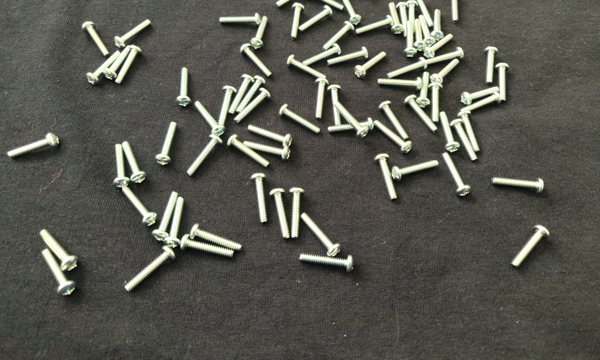longscrew: (123, 246, 177, 293), (300, 212, 342, 257), (40, 248, 78, 297), (38, 229, 79, 274), (511, 224, 552, 269), (186, 134, 224, 177), (189, 223, 243, 252), (121, 186, 158, 228), (7, 133, 60, 160), (151, 191, 179, 242), (234, 87, 272, 124), (180, 234, 234, 260), (373, 120, 413, 155), (403, 94, 438, 134), (442, 152, 472, 198), (227, 135, 270, 167), (334, 101, 370, 139), (277, 104, 321, 135), (377, 100, 410, 141), (85, 50, 122, 86), (449, 118, 479, 161), (194, 100, 227, 138), (235, 75, 267, 114), (163, 196, 186, 249), (300, 252, 355, 274), (228, 74, 256, 116), (373, 154, 398, 201), (269, 187, 291, 240), (114, 45, 143, 85), (240, 43, 273, 78), (121, 140, 147, 184), (114, 19, 152, 49), (391, 160, 440, 183), (286, 54, 327, 81), (456, 111, 482, 153), (102, 45, 132, 81), (248, 124, 293, 148), (250, 173, 271, 224), (155, 121, 178, 167), (244, 140, 292, 162), (81, 21, 110, 57), (322, 21, 355, 52), (299, 4, 334, 33), (302, 43, 342, 68), (460, 91, 503, 114), (289, 187, 307, 241), (491, 177, 545, 195), (353, 51, 387, 79), (387, 57, 428, 80), (439, 111, 461, 153), (327, 46, 370, 67), (328, 117, 375, 136), (355, 15, 395, 36), (113, 144, 132, 188), (218, 85, 237, 129), (430, 59, 461, 85), (425, 46, 465, 66), (423, 33, 455, 58), (461, 87, 500, 106), (176, 67, 193, 107), (327, 85, 343, 126), (428, 83, 444, 124), (250, 16, 269, 50), (315, 78, 330, 121), (377, 77, 423, 91), (418, 14, 437, 47), (495, 63, 511, 102), (413, 0, 435, 28), (340, 0, 363, 26), (290, 2, 305, 41), (484, 46, 499, 85), (416, 71, 431, 109), (219, 13, 262, 26), (403, 20, 418, 57), (388, 2, 404, 35), (396, 1, 410, 38), (431, 8, 445, 41), (406, 0, 419, 35), (307, 0, 344, 12), (414, 18, 427, 52), (448, 0, 462, 24), (276, 0, 311, 9)
